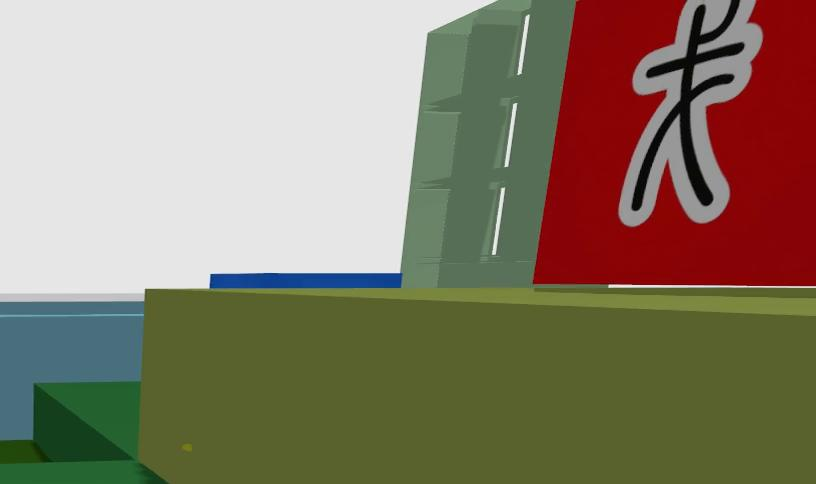KFS_FAKE: (533, 0, 815, 285), (619, 0, 762, 226)
